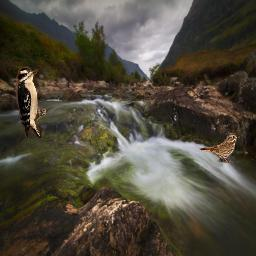Sparrow: (199, 133, 237, 164)
Woodpecker: (16, 66, 46, 139)
